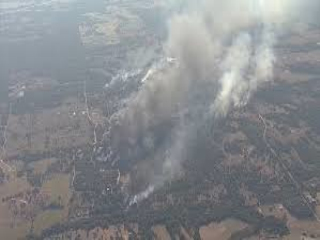smoke: (121, 5, 276, 126), (116, 95, 196, 205)
